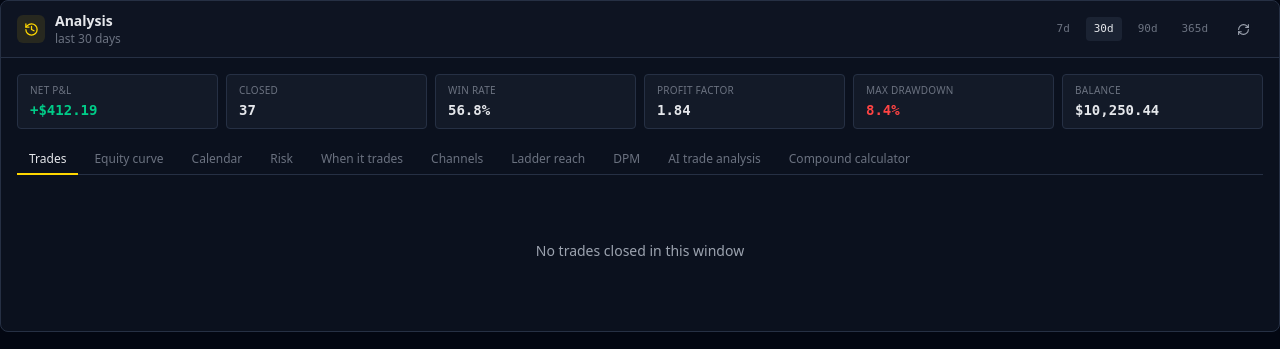
Test: ladder reach › shows the sample size beside the average
Click the tab "Ladder reach" at point(548, 160), box [499, 145, 597, 175]
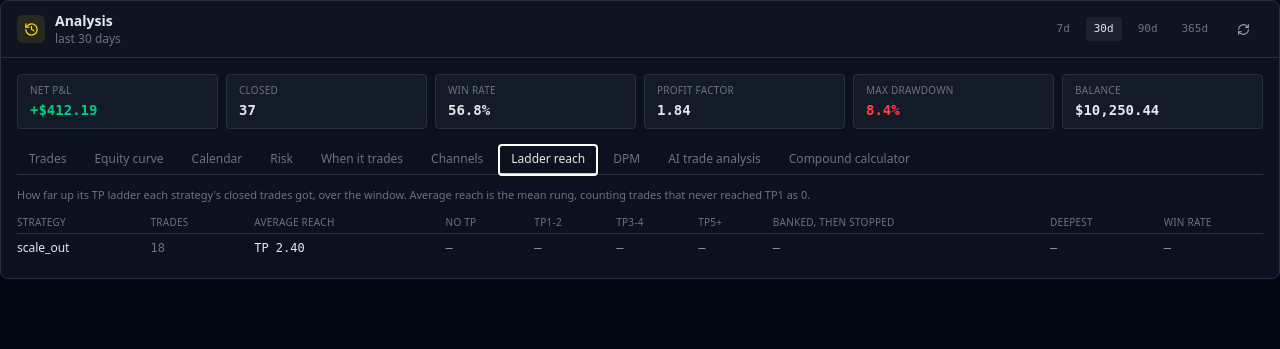
Now the text "TP 2.40" is shown, box [254, 233, 446, 262]
Now the text "18" is shown, box [150, 233, 254, 262]
